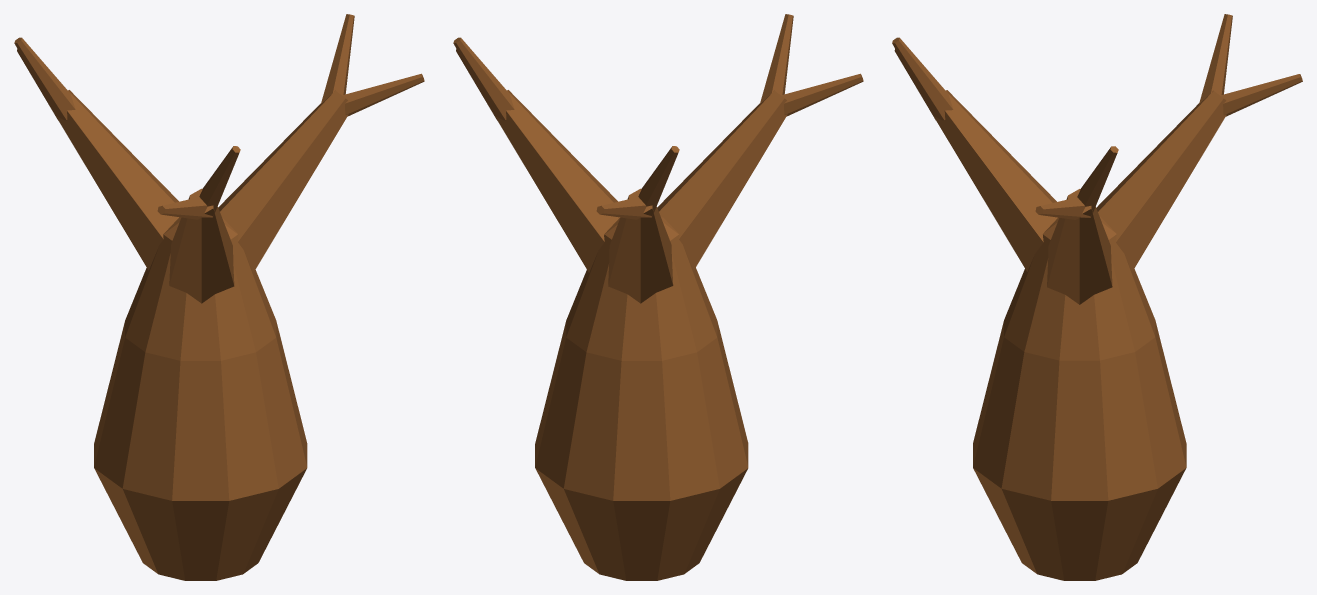
Rendered from samuu.glb.
3 views of the same model, side by side, from view 1: azimuth 30°, elevation 25°; view 2: azimuth 150°, elevation 25°; view 3: azimuth 270°, elevation 25° (orthographic).
Visible parts, largest first — view 1: tronco, rama (×8); view 2: tronco, rama (×8); view 3: tronco, rama (×8).
Part boxes in pixels (<box>): tronco: <box>94,217,307,580</box>; rama (×8): <box>14,14,424,303</box>; tronco: <box>535,216,748,580</box>; rama (×8): <box>453,14,863,303</box>; tronco: <box>973,216,1186,580</box>; rama (×8): <box>892,14,1302,304</box>.
Bounding box in the file's own units: 1.09 × 1.52 × 1.15.
1 material, 1 textured.
